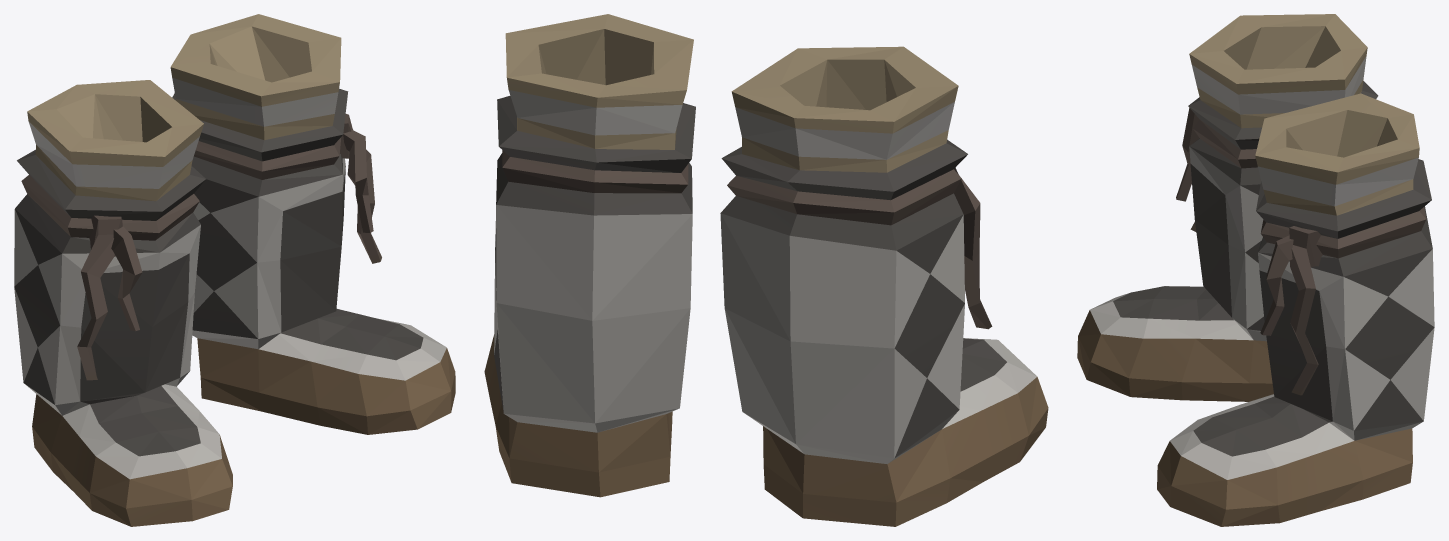
The model's file is bootsKamiksDisplay.fbx.
The picture shows the model from 3 angles, left to right: view 1: azimuth 30°, elevation 25°; view 2: azimuth 150°, elevation 25°; view 3: azimuth 270°, elevation 25°; orthographic projection. The views are drawn at different scales.
Visible parts, largest first — view 1: bootsKamiksDisplay; view 2: bootsKamiksDisplay; view 3: bootsKamiksDisplay.
Part boxes in pixels (left/top/right/bottom): bootsKamiksDisplay: left=14, top=14, right=455, bottom=526; bootsKamiksDisplay: left=484, top=14, right=1048, bottom=526; bootsKamiksDisplay: left=1077, top=14, right=1434, bottom=526.
Bounding box in the file's own units: 1.52 × 1.22 × 1.18.
Materials: 1 (1 with a texture image).
